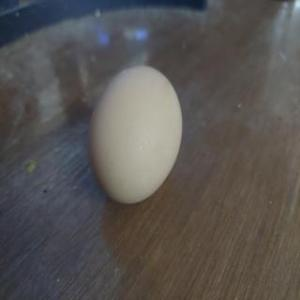egg: (85, 63, 182, 207)
